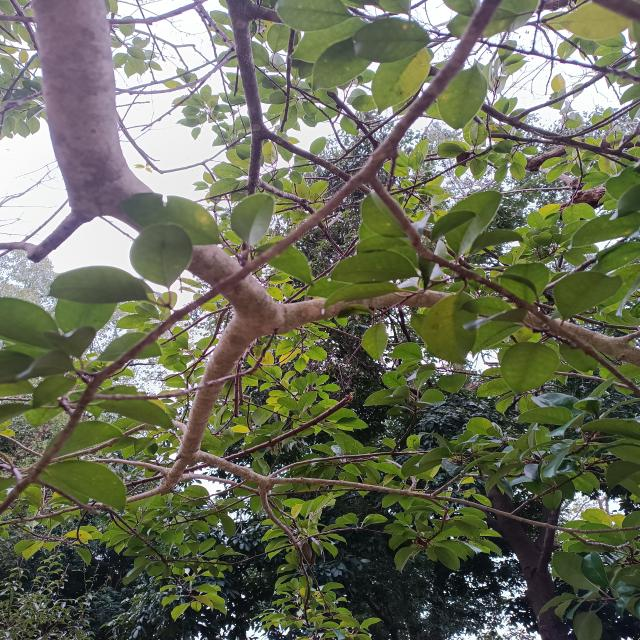Branch: (37, 4, 288, 333)
Twig: (43, 319, 260, 517), (191, 450, 591, 532), (287, 291, 640, 365), (260, 485, 302, 550)
